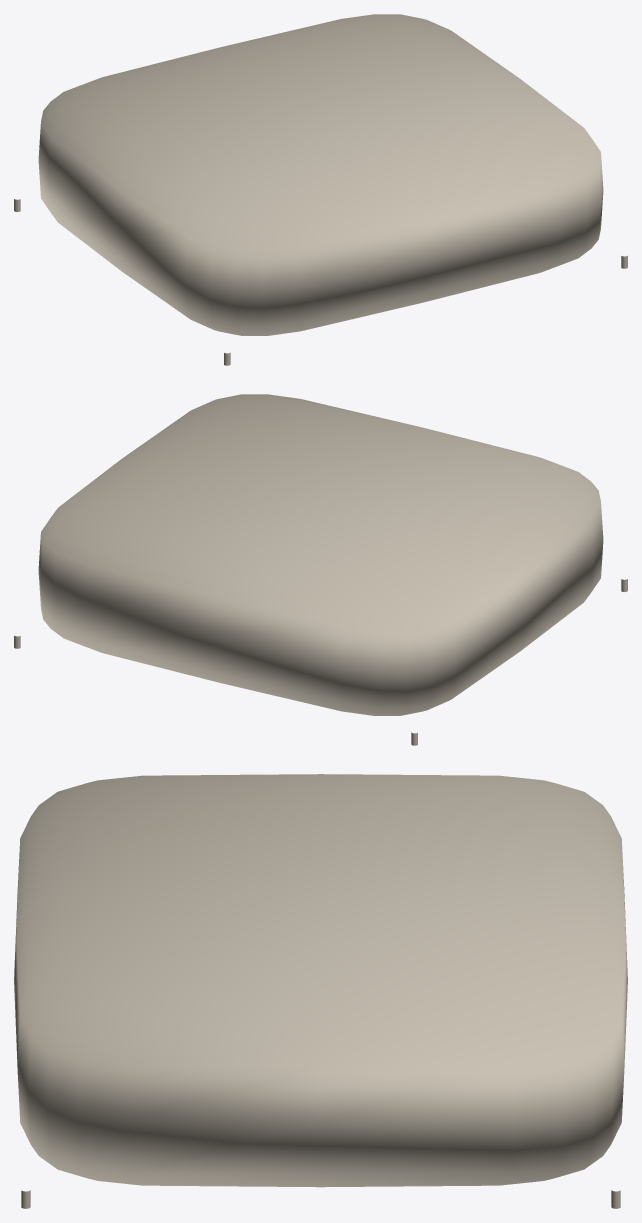
File: ikea-kivik-39443894-g2-proxy.glb
The picture shows the model from 3 angles, top to bottom: view 1: azimuth 30°, elevation 25°; view 2: azimuth 150°, elevation 25°; view 3: azimuth 270°, elevation 25°; orthographic projection. The views are drawn at different scales.
Visible parts, largest first — view 1: proxy_body; view 2: proxy_body; view 3: proxy_body.
Part boxes in pixels (x1=…): proxy_body: x1=38, y1=14, x2=603, y2=335; proxy_body: x1=38, y1=394, x2=603, y2=715; proxy_body: x1=14, y1=774, x2=627, y2=1187.
Size of the model in its own units: 2.8 by 0.83 by 2.57.
